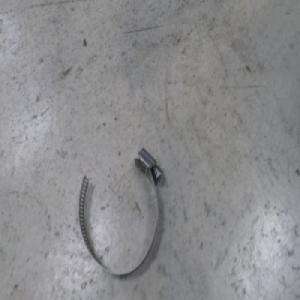AdjustableClamp: (77, 144, 163, 275)
